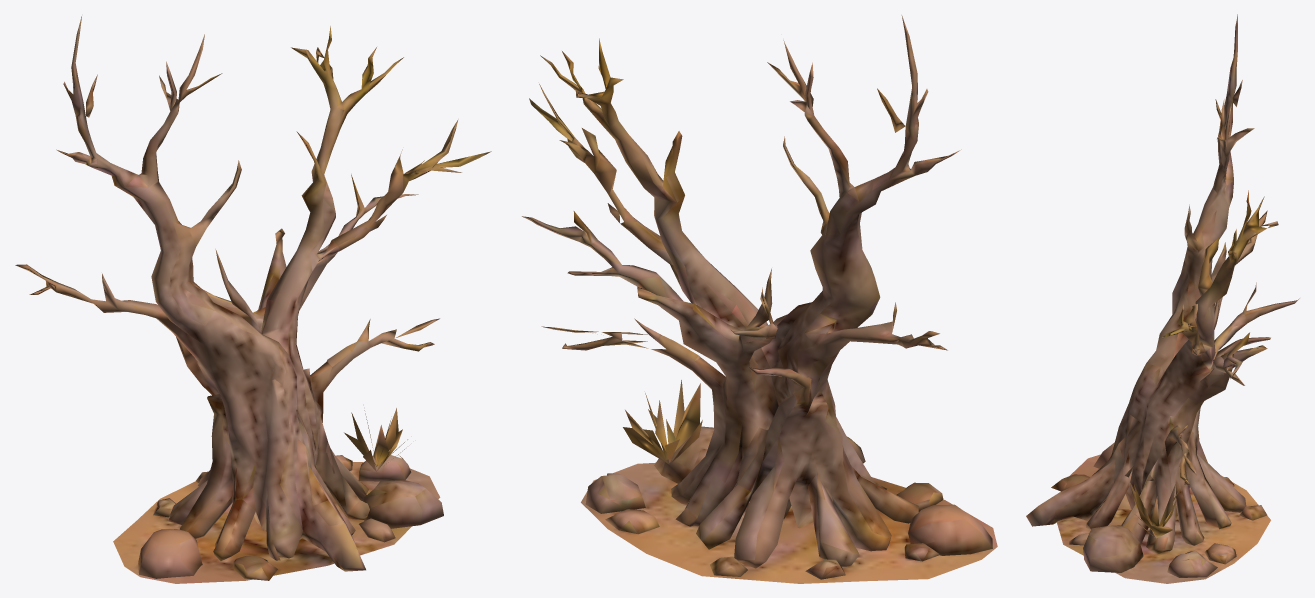
The model's file is tree_03.glb.
3 renders of one model, left to right at view 1: azimuth 30°, elevation 25°; view 2: azimuth 150°, elevation 25°; view 3: azimuth 270°, elevation 25°, orthographic. The views are drawn at different scales.
Parts seen in each view (by area): view 1: tree_03; view 2: tree_03; view 3: tree_03.
Part boxes in pixels (box(x1,y1,x2,y2)): tree_03: box(15, 16, 491, 583); tree_03: box(522, 15, 997, 583); tree_03: box(1026, 14, 1299, 583).
Bounding box in the file's own units: 4.75 × 5.6 × 3.13.
1 material, 1 textured.
